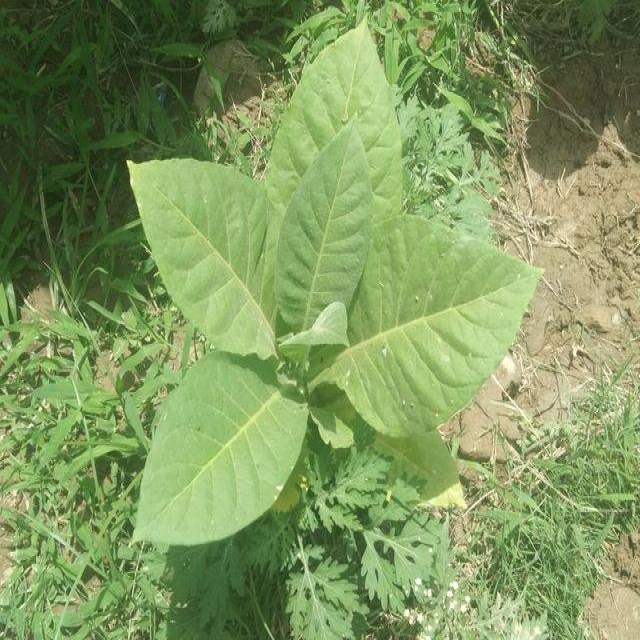crop: (118, 11, 537, 580)
